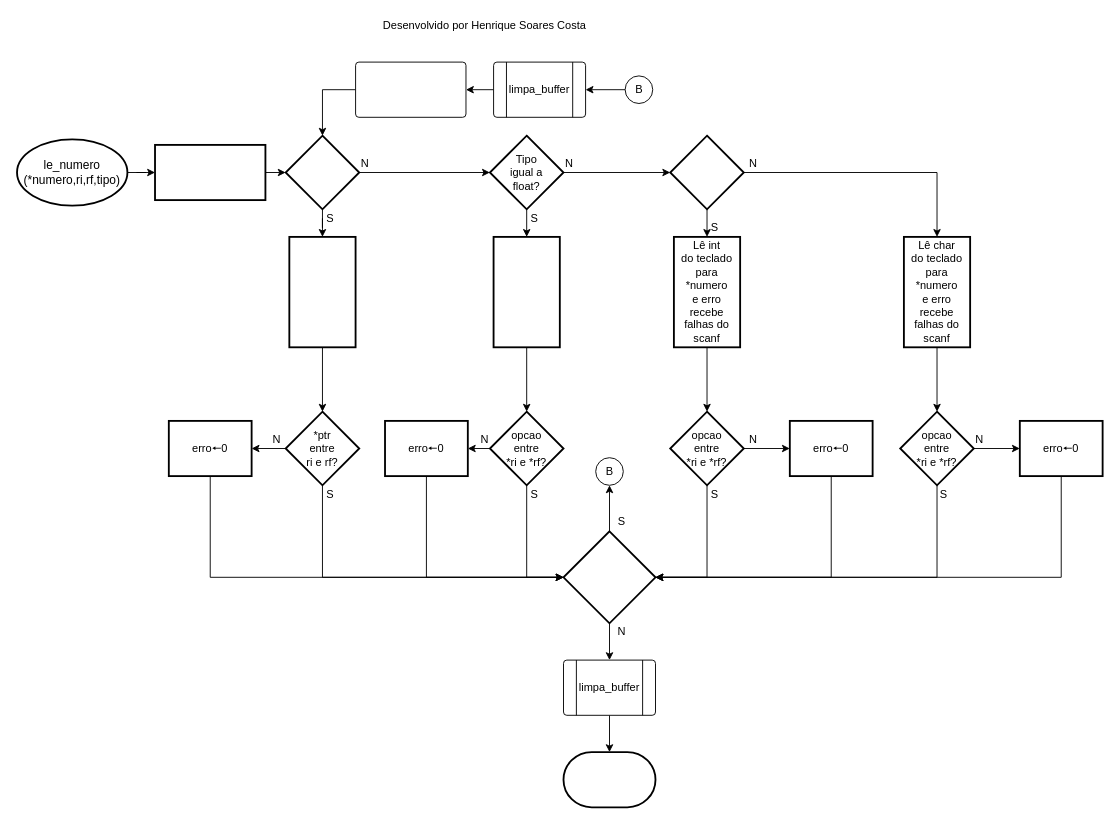
Image size: 1119x823. Some labels were removed from this diagram. Each missing label, with the centre of its shape:
Declara erro 🠔 -1: the point at 210,172
erro <=0: the point at 609,577
Exibe Mensagem de Erro: the point at 410,89
Lê double do teclado para *numero e erro recebe falhas do scanf: the point at 322,292
Lê float do teclado para *numero e erro recebe falhas do scanf: the point at 526,292
Retorna 0: the point at 609,779
Tipo igual a double?: the point at 322,172
Tipo igual a int?: the point at 706,172
